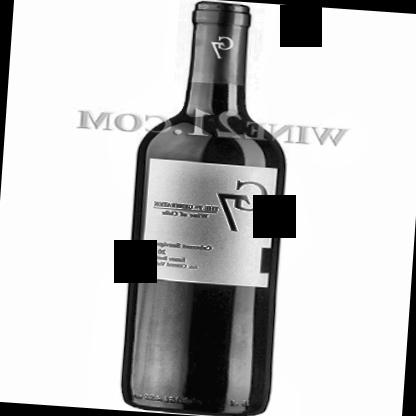G7: (135, 156, 282, 289)
